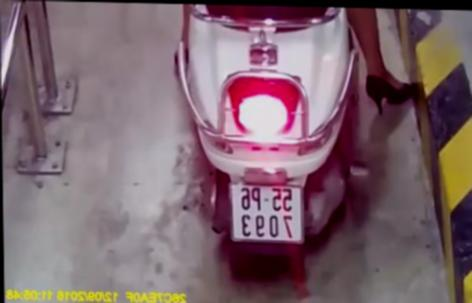License_Plate: (220, 178, 307, 248)
